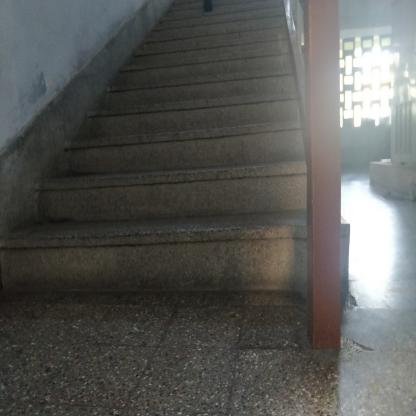stairs: (77, 108, 300, 309)
